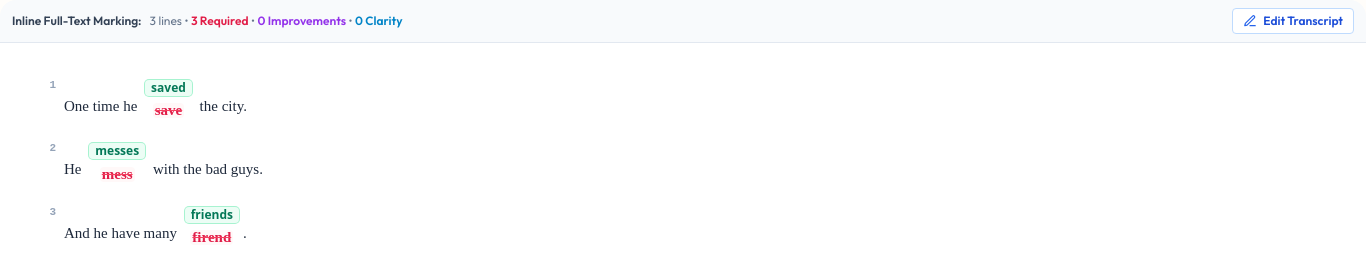
Scenario: InlineMarkingView Component Tests › displays tooltip on hover over marking
The image size is (1366, 263).
Hover over the text "save" at (168, 111), box [153,103,184,118]
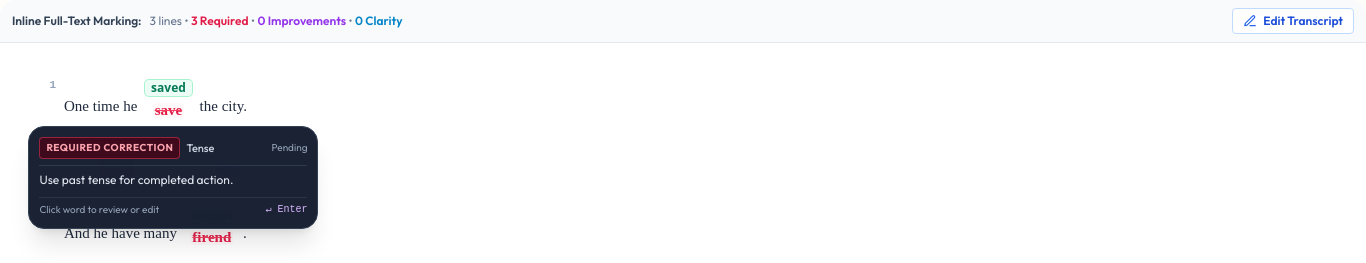
Expected: the text "Use past tense for completed action." is shown, [40,172,233,187]
